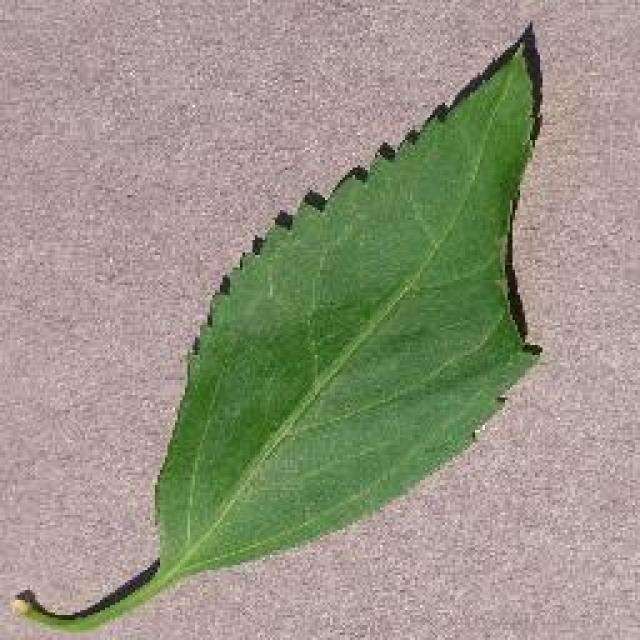Cherry___healthy: (2, 17, 559, 640)
